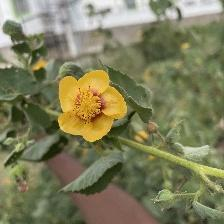indian mallow: (55, 71, 128, 141)
